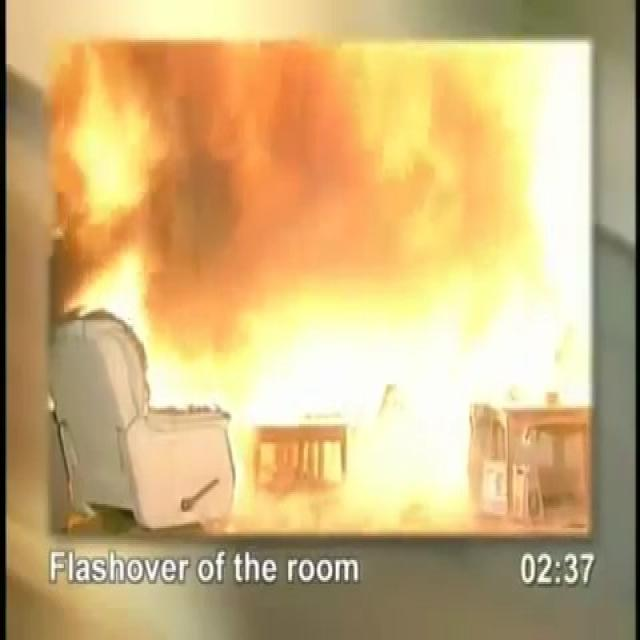Fire: (49, 49, 185, 316)
